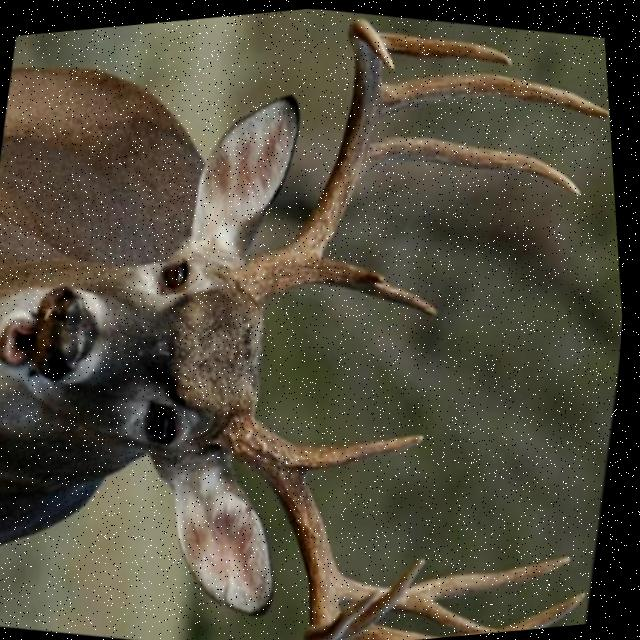L-F: (228, 415, 386, 640)
L-G1: (292, 430, 428, 474)
R-F: (252, 15, 394, 294)
R-G1: (307, 254, 441, 313)
R-G2: (366, 128, 582, 193)
R-G3: (376, 69, 611, 115)
